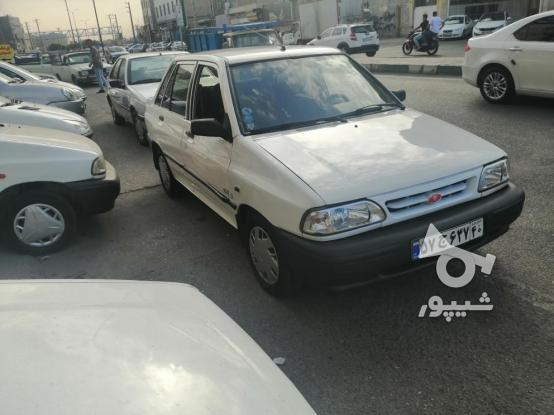car: (413, 215, 486, 261)
